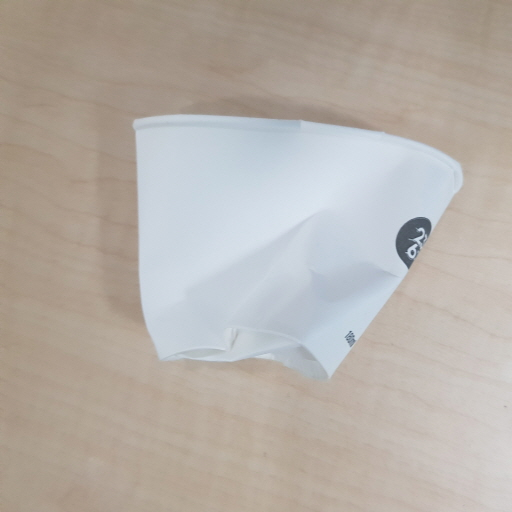Paper_1: (125, 111, 466, 380)
